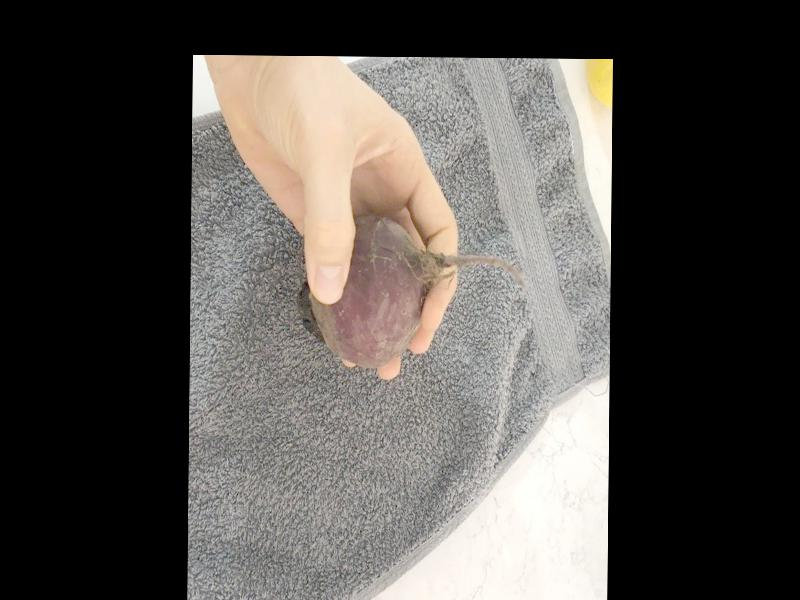Beet: (296, 213, 527, 369)
